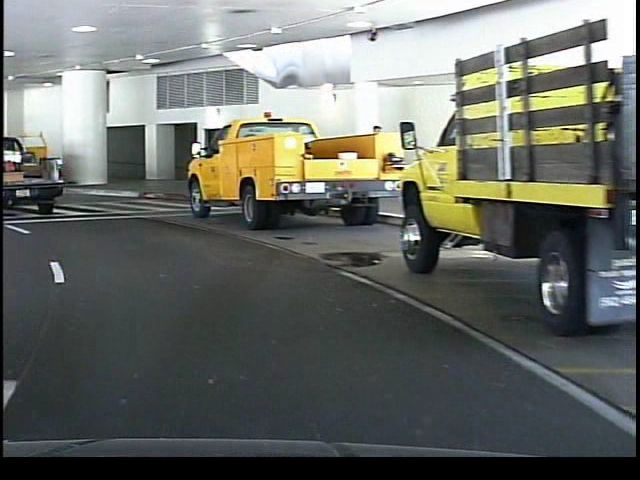person: (362, 118, 390, 204)
